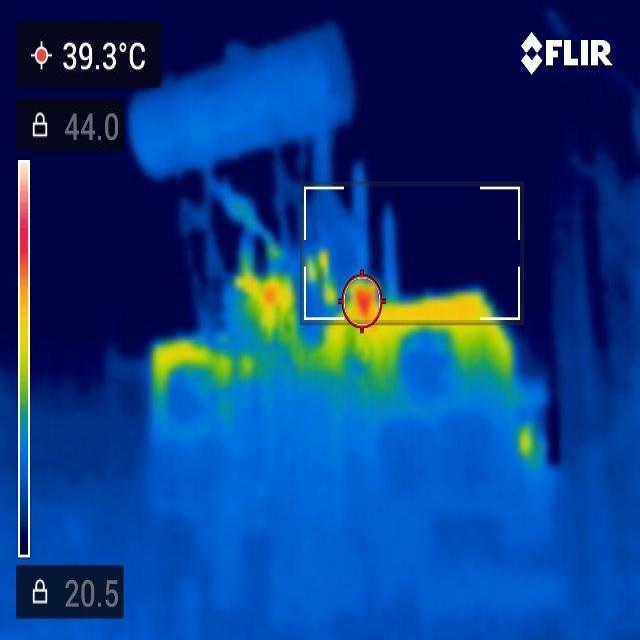Loose Joint -Faulty: (311, 276, 392, 338), (254, 278, 293, 331)
